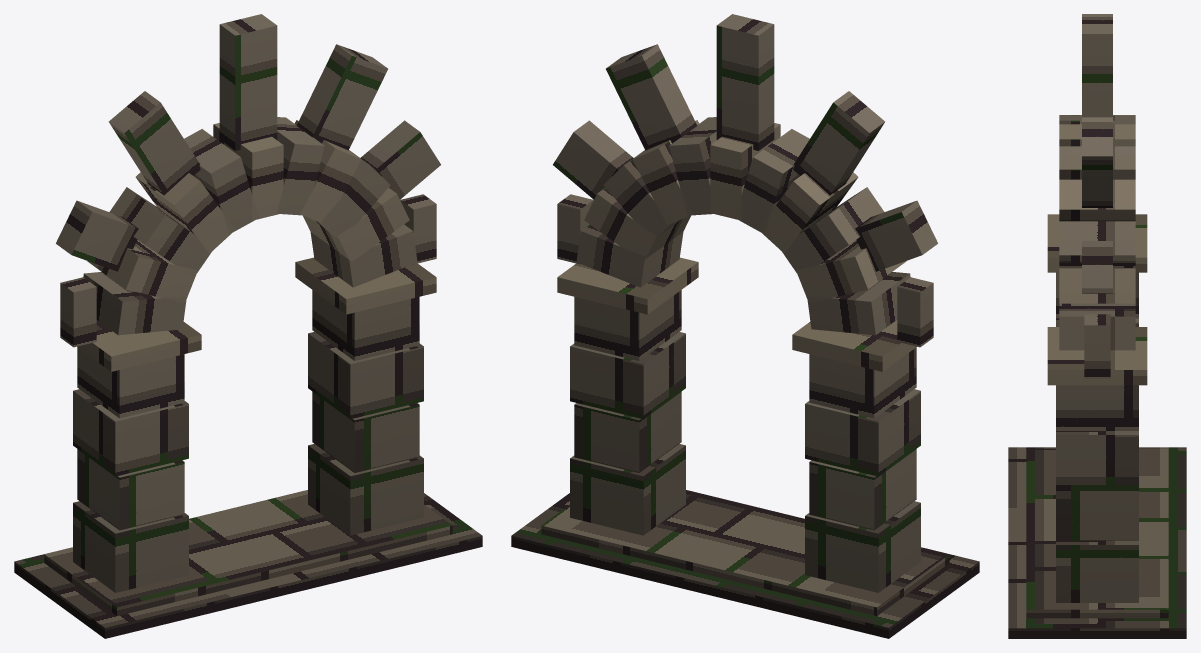
The model's file is realm_arch.glb.
3 renders of one model, left to right at view 1: azimuth 30°, elevation 25°; view 2: azimuth 150°, elevation 25°; view 3: azimuth 270°, elevation 25°, orthographic.
Parts seen in each view (by area): view 1: realm_arch; view 2: realm_arch; view 3: realm_arch.
Boxes of the visible parts, x1,y1,x2,y2 form: realm_arch: [14, 14, 482, 638]; realm_arch: [511, 14, 979, 638]; realm_arch: [1008, 14, 1186, 638].
Bounding box in the file's own units: 3.6 × 4.87 × 1.5.
1 material, 1 textured.
